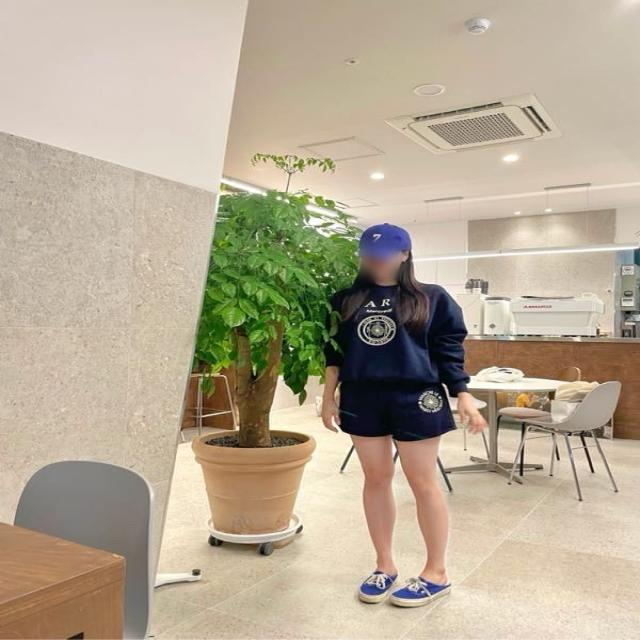mtm: (322, 280, 469, 398)
shortpants: (336, 369, 451, 443)
